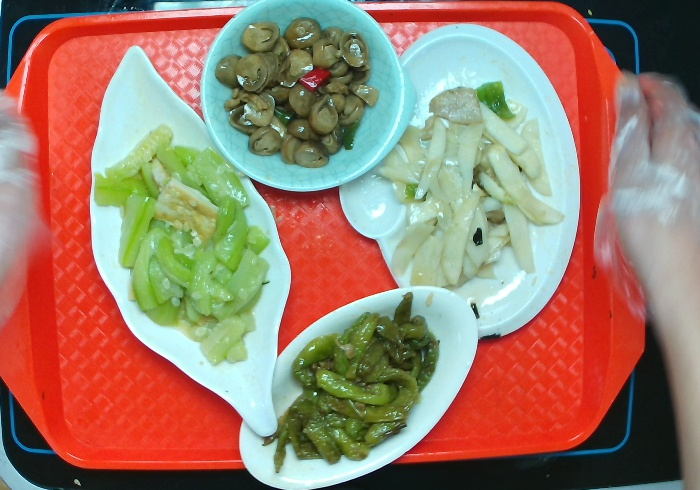RJxy-Bai_Se_Tuo_Yuan: (238, 282, 478, 488)
RJxy-Shu_Ye_Pan: (86, 44, 295, 442)
RJxy-Xiao_Jiao_Yuan_Wan: (195, 1, 408, 196)
RJxy-Zhan_Liao_Pan: (337, 20, 581, 343)
